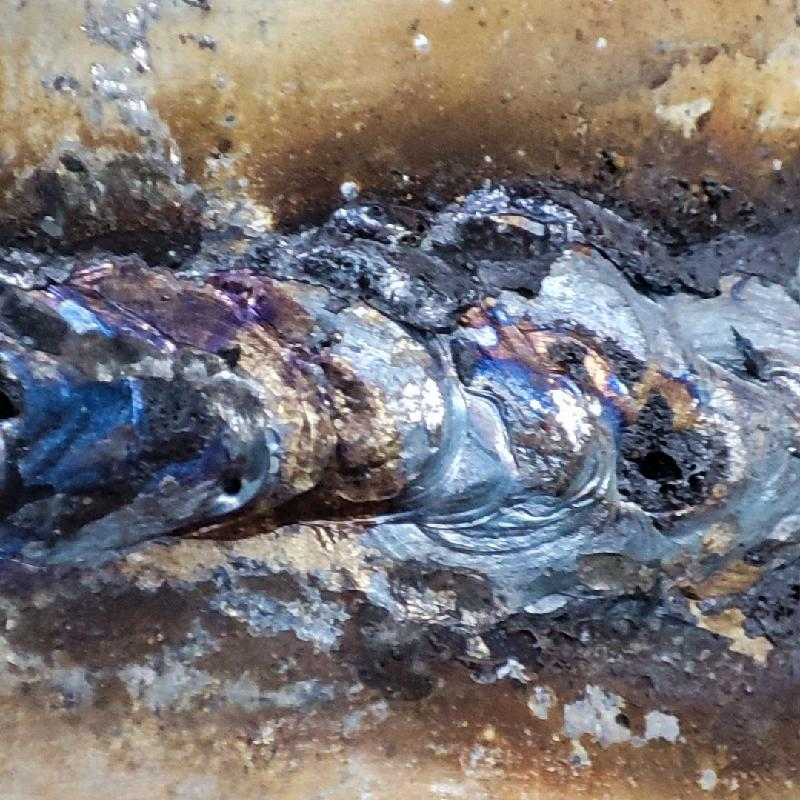Surface_pores: (619, 415, 718, 508), (203, 459, 273, 509)
good: (0, 205, 799, 673)
